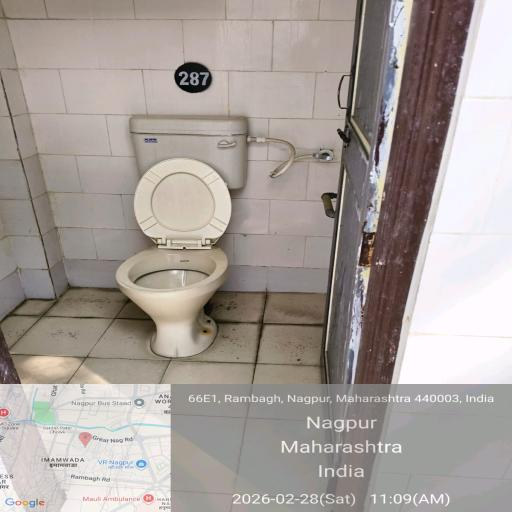clean_floor: (0, 0, 335, 114), (252, 132, 339, 261)
clean_western: (113, 167, 224, 349)
partial_dirty_floor: (0, 267, 330, 395), (0, 126, 78, 264)
